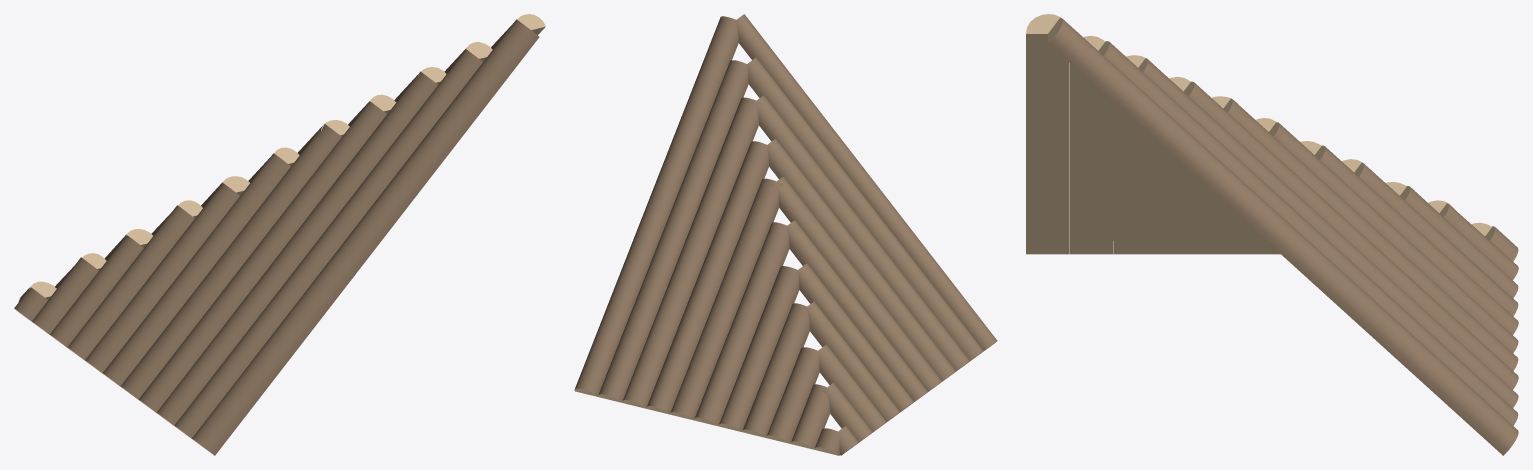
The model's file is log_roof_outer_steep.glb.
3 views of the same model, side by side, from view 1: azimuth 30°, elevation 25°; view 2: azimuth 150°, elevation 25°; view 3: azimuth 270°, elevation 25° (orthographic). The views are drawn at different scales.
Visible parts, largest first — view 1: Roof; view 2: Roof; view 3: Roof.
Boxes of the visible parts, bbox=[...] form: Roof: bbox=[14, 14, 545, 455]; Roof: bbox=[574, 14, 997, 455]; Roof: bbox=[1026, 14, 1518, 455].
Size of the model in its own units: 3.19 by 3.05 by 3.19.
